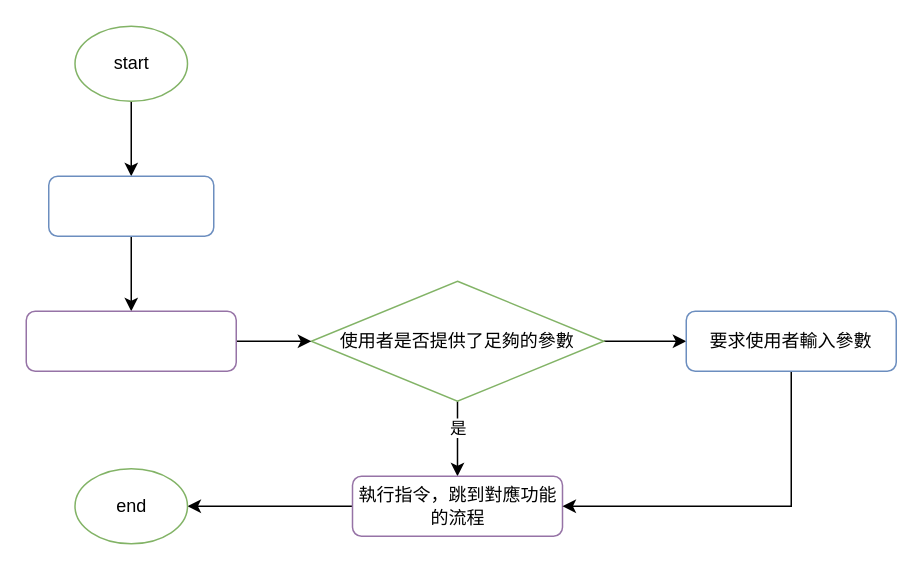
This 923x570 diagram has some shape labels left out. The shapes that lost their labels are listed below. From the top down, each one's centre as x and y in pixels, then its label:
At pixel 130 205: "使用者輸入指令".
At pixel 130 340: "判斷使用者使用的功能".
